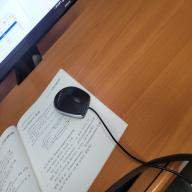mouse: (54, 84, 98, 122)
